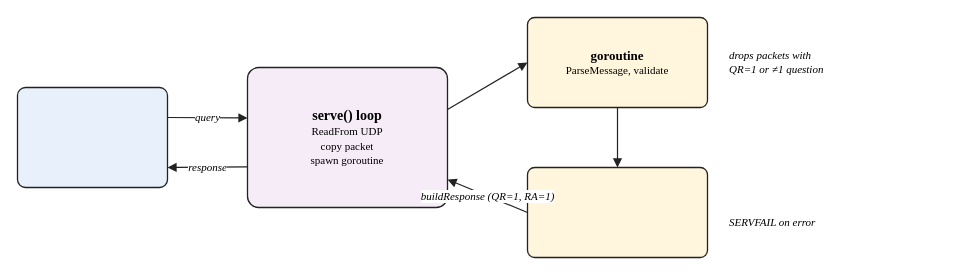
The diagram is 965 pixels wide and 276 high, and some of its shapes have lost their labels. The centre of each missing label's shape, as x and y in pixels:
"DNS client dig / nslookup / dnspython" belongs at (92,137).
"Resolver.Resolve shared caches (mutex)" belongs at (617,212).
